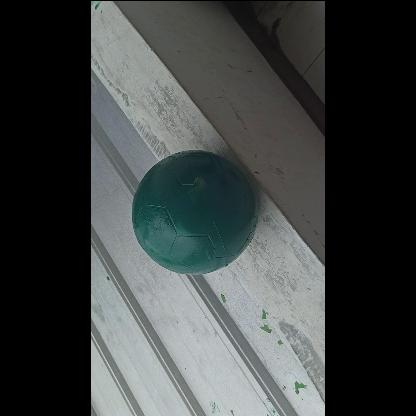green_ball: (134, 149, 256, 271)
